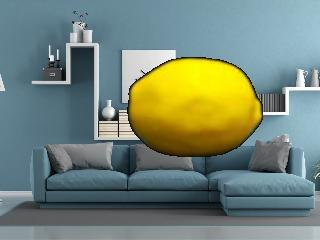lemon: (130, 58, 262, 156)
